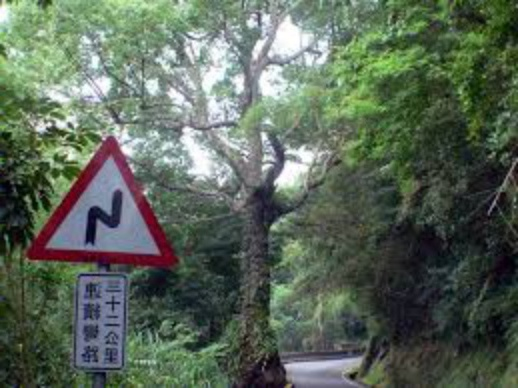Double_bend_right: (24, 131, 182, 270)
